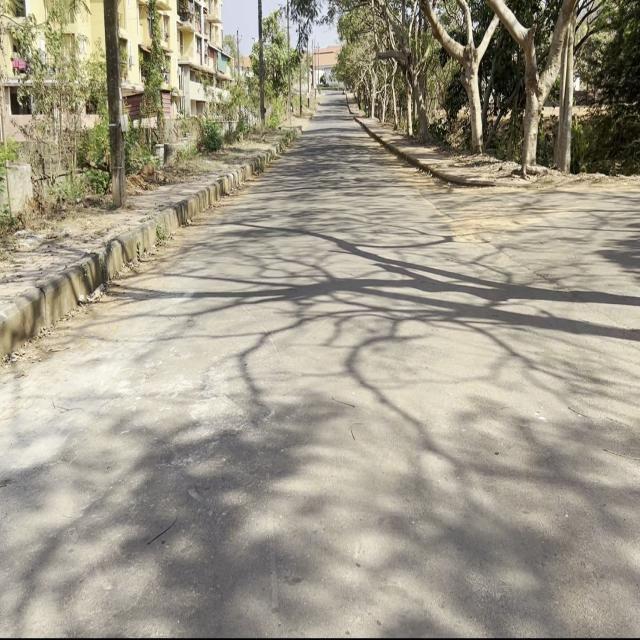Road: (3, 100, 636, 632)
